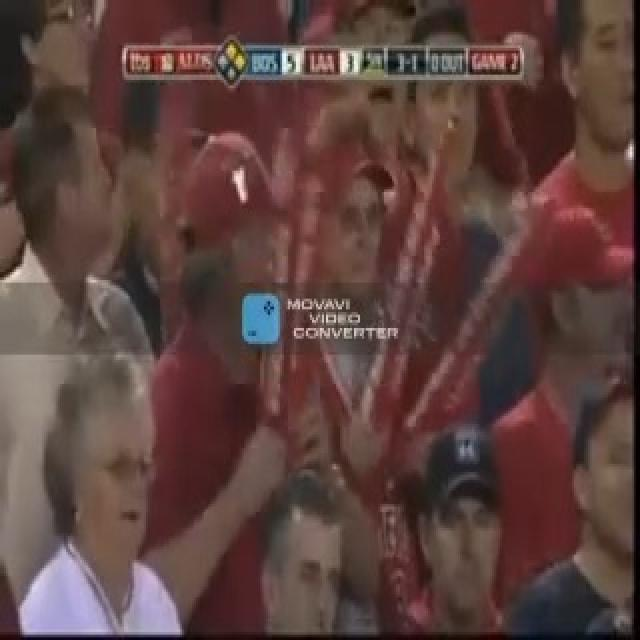non-voilence: (0, 0, 636, 635), (120, 37, 526, 83)
